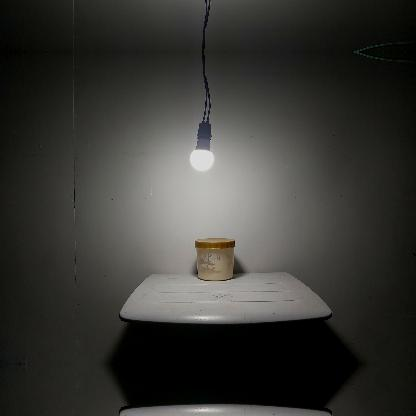Lady-s-Choice: (195, 238, 236, 280)
